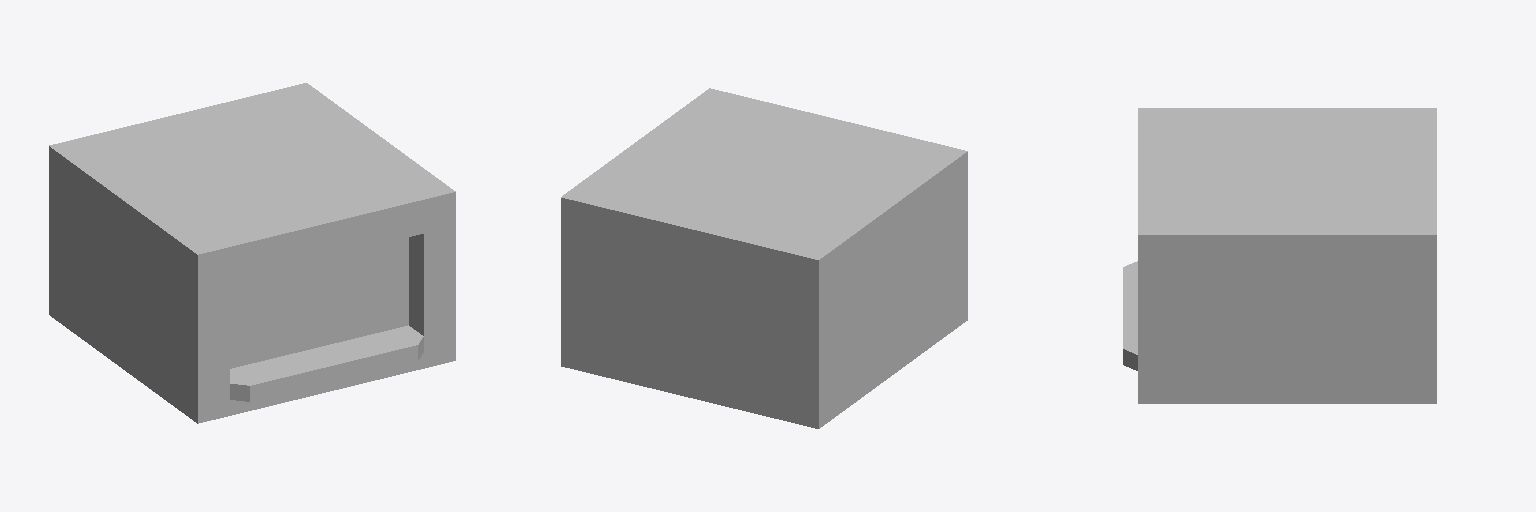
File: building-window-wide-sill.obj
The picture shows the model from 3 angles: view 1: azimuth 30°, elevation 25°; view 2: azimuth 150°, elevation 25°; view 3: azimuth 270°, elevation 25°; orthographic projection.
Visible parts, largest first — view 1: building-window-wide-sill; view 2: building-window-wide-sill; view 3: building-window-wide-sill.
Part boxes in pixels (left/top/right/bottom): building-window-wide-sill: left=49, top=83, right=455, bottom=423; building-window-wide-sill: left=561, top=88, right=967, bottom=428; building-window-wide-sill: left=1123, top=108, right=1436, bottom=403.
Bounding box in the file's own units: 1 × 0.625 × 1.05.